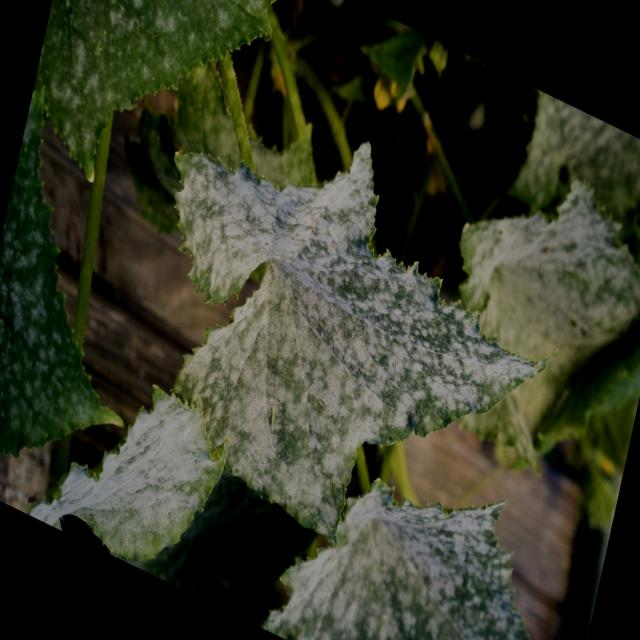Powdery Mildew: (142, 126, 570, 478), (304, 500, 498, 627)
